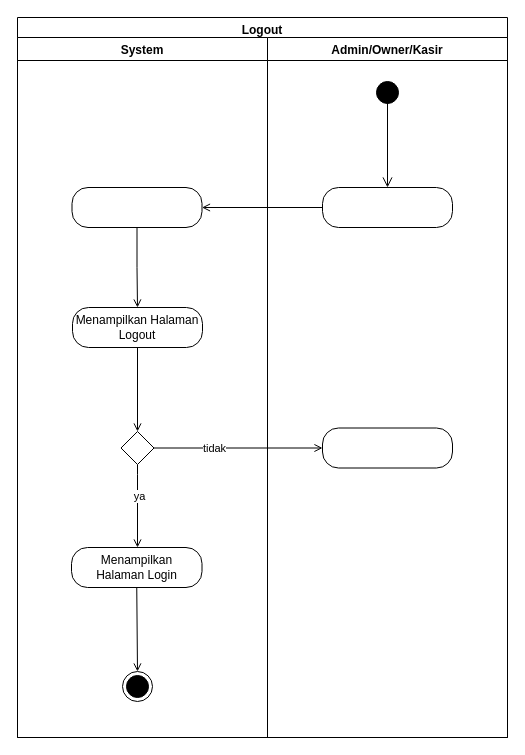
Some shapes in this 525 by 755 pixel diagram are drawn without their labels. The shapes that lost their labels are listed below. From the top down, each one's box as (x1, y1, x2, y2) in pixels, then its label:
(71, 186, 202, 228): Menghapus Session
(322, 186, 452, 228): Klik Tombol Logout
(322, 427, 452, 468): Kembali ke Halaman Login
